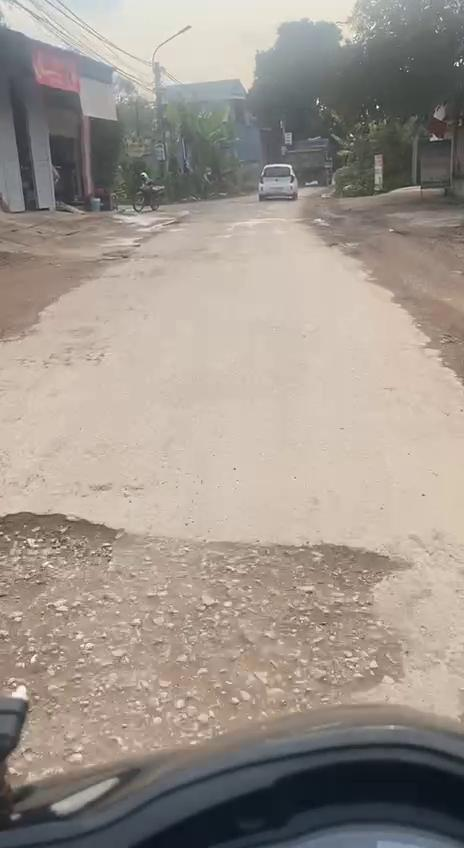pothole: (0, 495, 413, 799)
